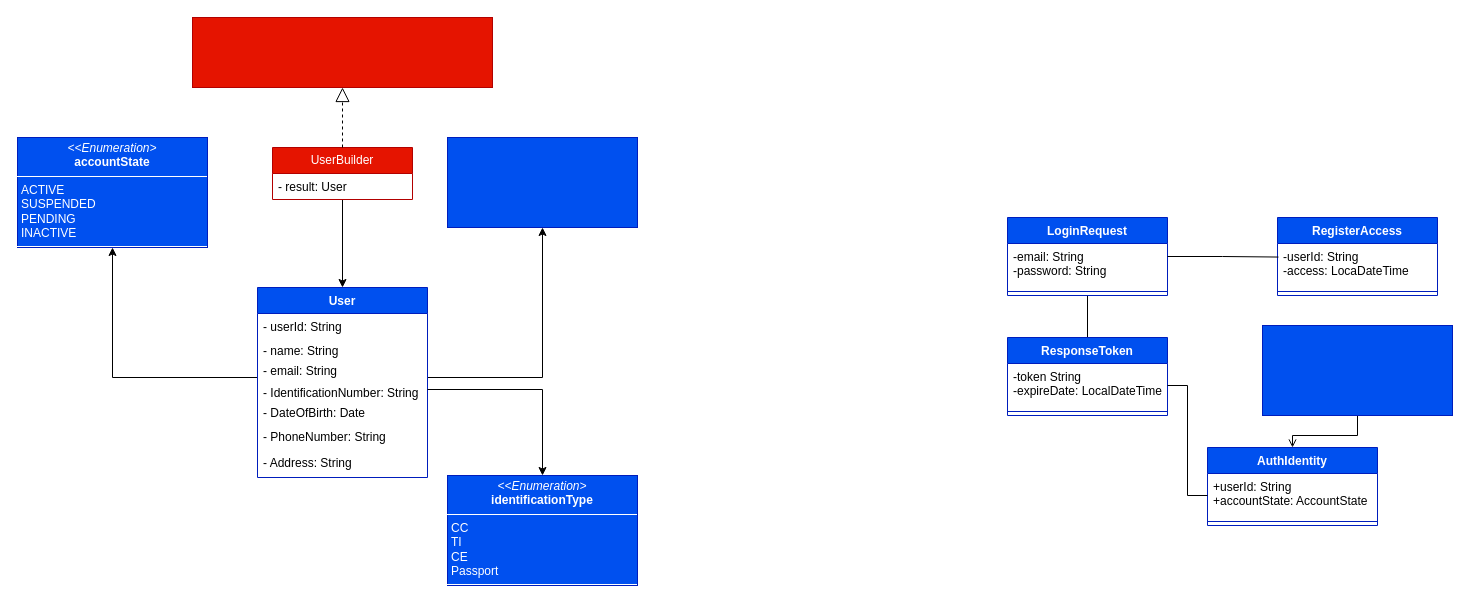
The diagram is 1470 pixels wide and 603 high, and some of its shapes have lost their labels. Each missing label, with the centre of its shape:
"<<Enumeration> accountState ACTIVE SUSPENDED PENDING" belongs at [1357,370].
"<<Enumeration> Role STUDENT PROFESSOR ADMIN" belongs at [542,182].
"<<Interface>> Builder + createUser(UserRequestDTO): UserResponseDTO" belongs at [342,52].
